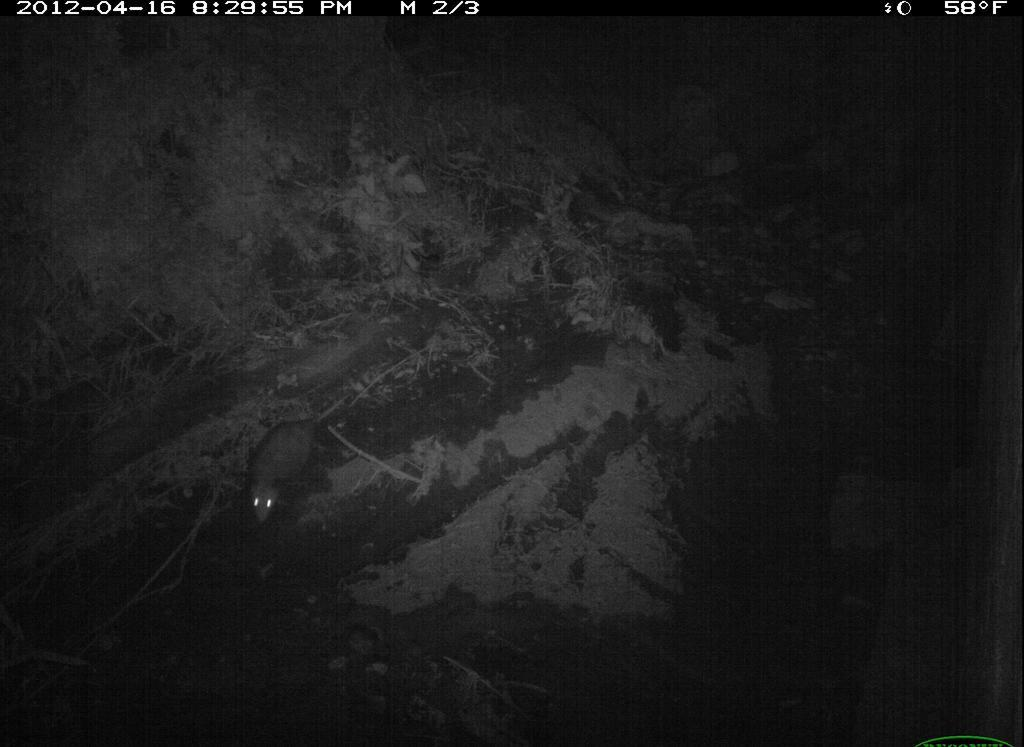opossum: (214, 405, 372, 550)
